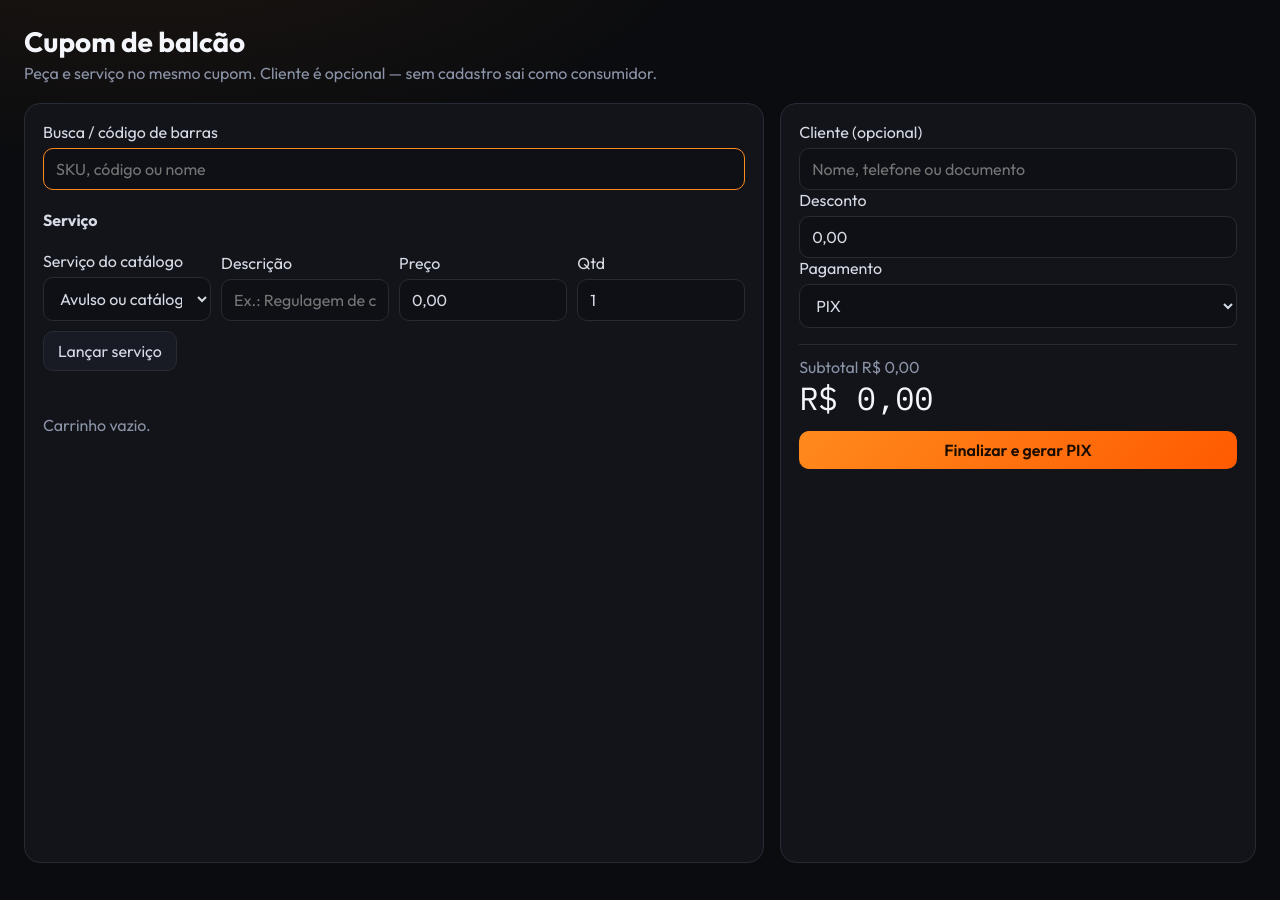
it: PDV › Enter no código adiciona a peça sem clicar em Adicionar
Step 1. Type "789" into the field with placeholder "SKU, código ou nome" → (394, 169), box [43,148,745,190]
Then press Enter
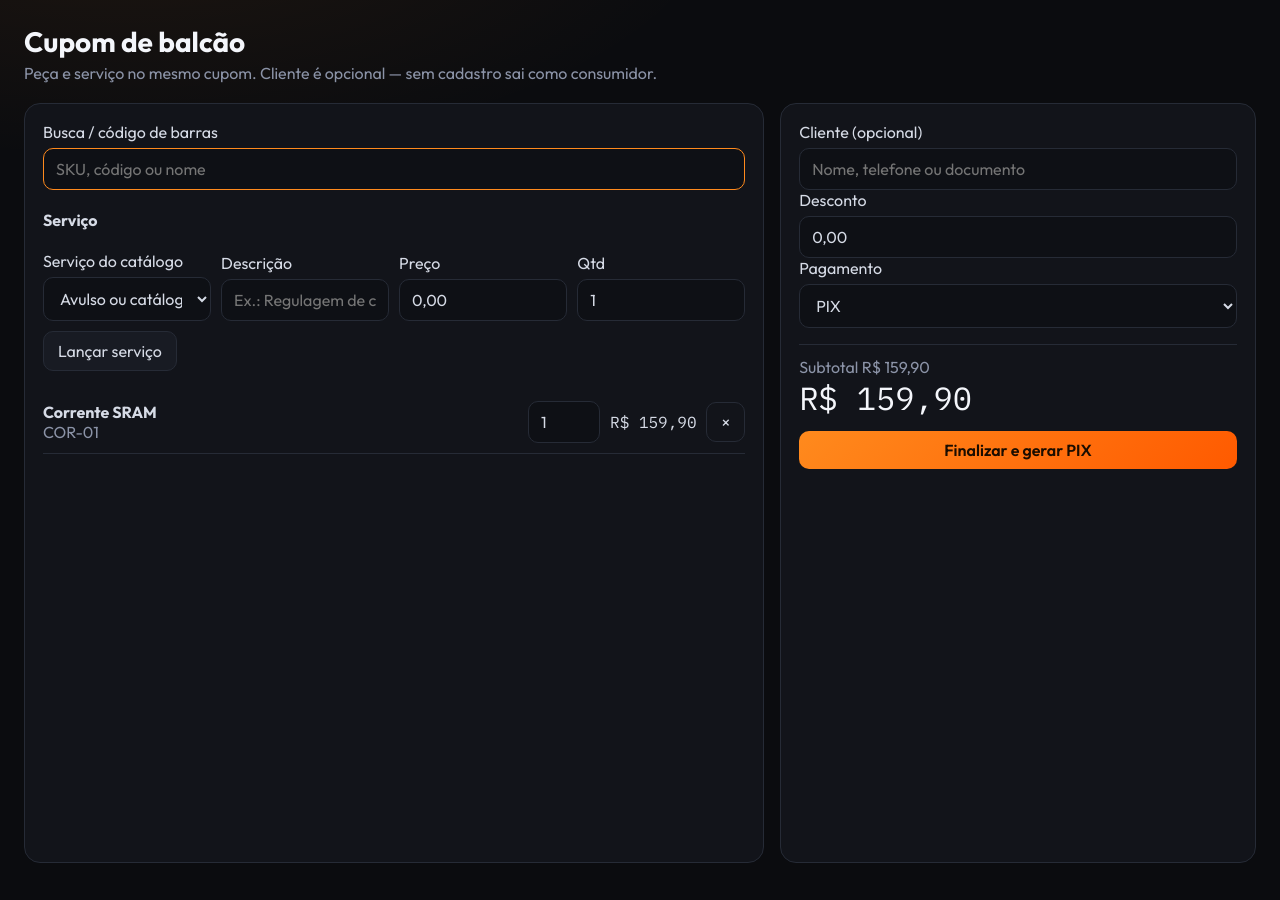
Expected: the text "Corrente SRAM" is shown, [43,402,157,422]
